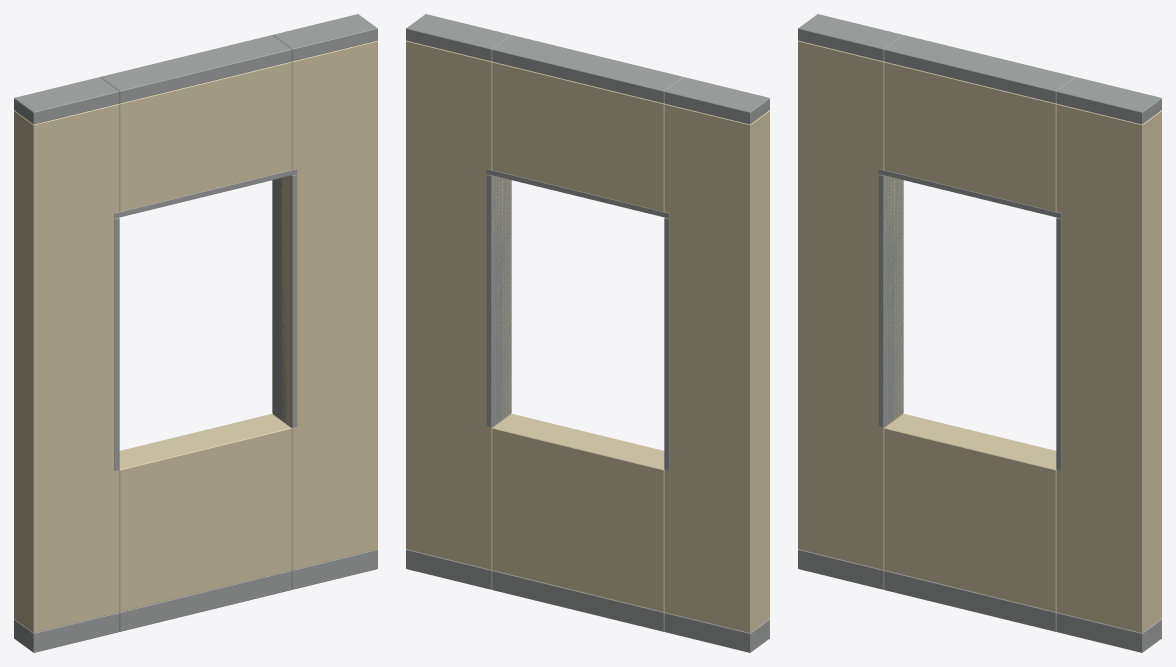
The model's file is b21_wall_window_opening_2m.glb.
3 views of the same model, side by side, from view 1: azimuth 30°, elevation 25°; view 2: azimuth 150°, elevation 25°; view 3: azimuth 330°, elevation 25° (orthographic).
Parts seen in each view (by area): view 1: b21_wall_window_opening_2m; view 2: b21_wall_window_opening_2m; view 3: b21_wall_window_opening_2m.
Part boxes in pixels (x1=…): b21_wall_window_opening_2m: x1=14, y1=14, x2=377, y2=652; b21_wall_window_opening_2m: x1=406, y1=14, x2=769, y2=652; b21_wall_window_opening_2m: x1=798, y1=14, x2=1161, y2=652.
Bounding box in the file's own units: 2 × 3 × 0.204.
